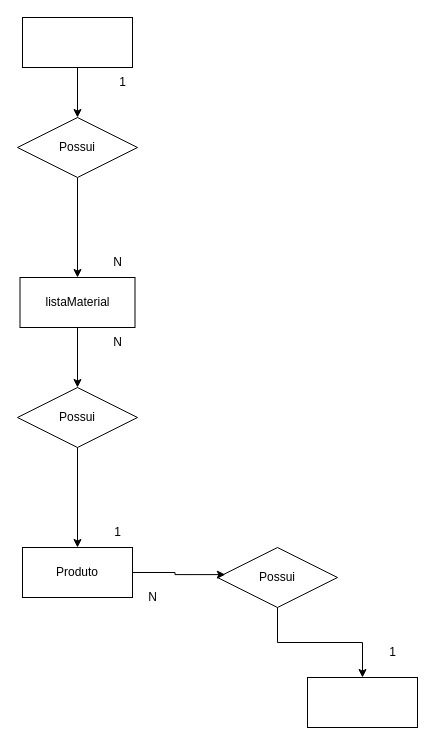
Some shapes in this 435 by 745 pixel diagram are drawn without their labels. Each missing label, with the centre of its shape:
"Materiais" goes at [77,42].
"Pedido" goes at [362,702].
